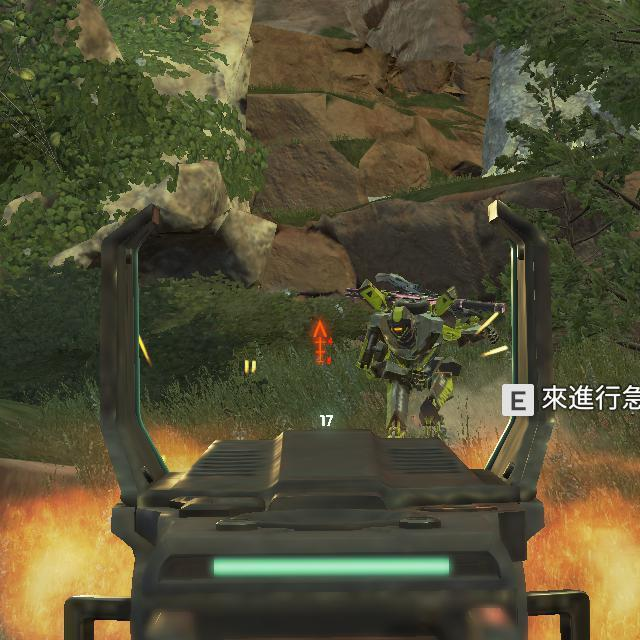avatar: (355, 275, 489, 439)
